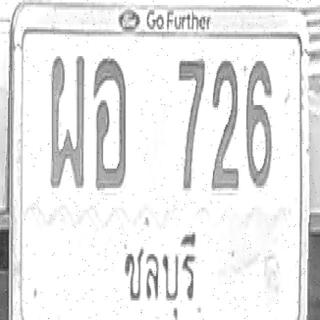A28: (50, 52, 85, 190)
A43: (93, 56, 126, 188)
N02: (211, 58, 238, 190)
N06: (246, 58, 272, 188)
N07: (178, 56, 205, 190)
